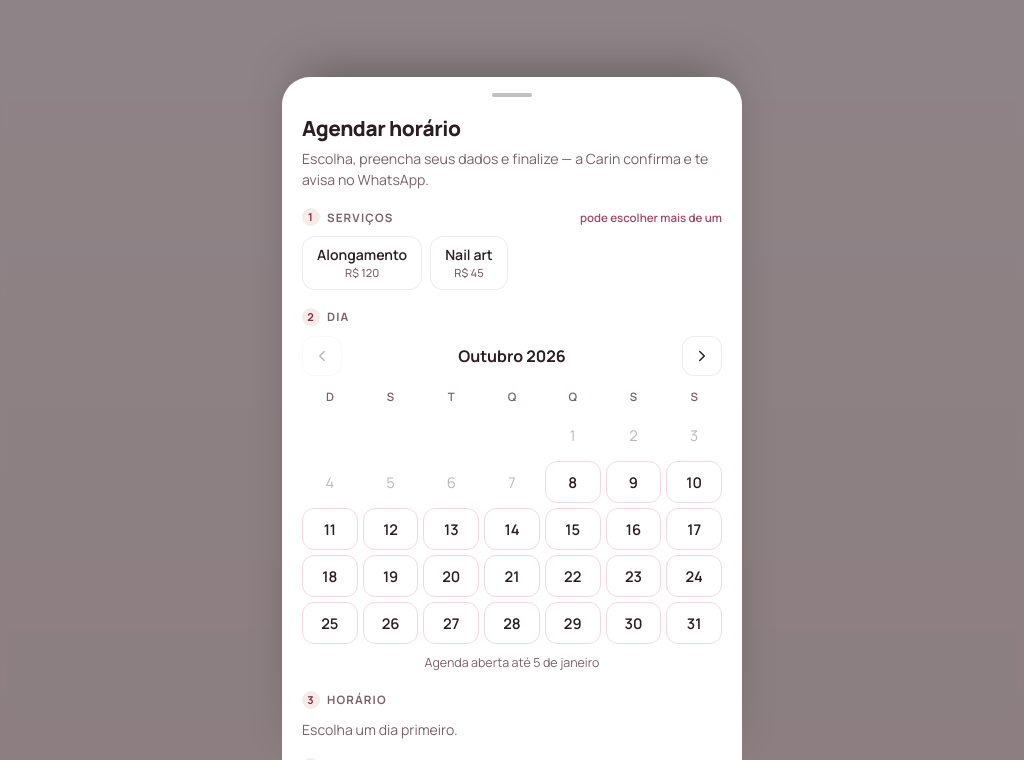
Test case: Sheet do site: até quando a agenda está aberta (escolha da Carin) › trocar de mês desmarca o dia escolhido (o horário era daquele outro mês)
Click the button "9".
click(633, 482)  # box [606,461,661,503]
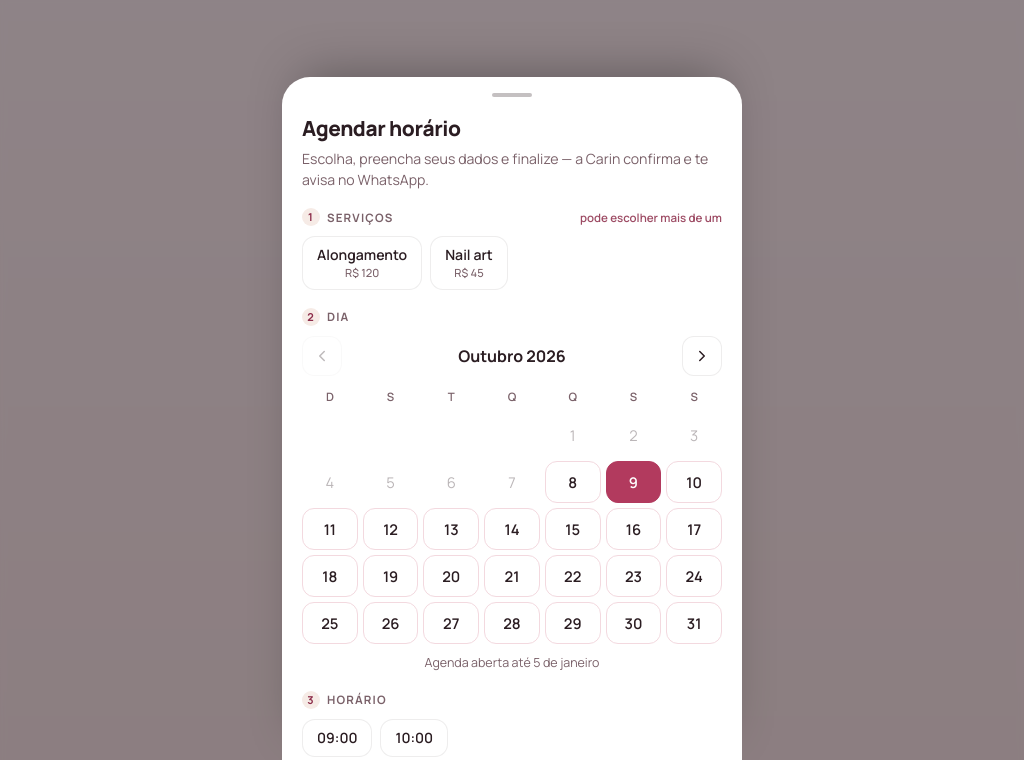
Expected: the button "09:00" is shown, [302,719,372,757]
Click the button named "Próximo mês".
click(702, 356)  # box [682,336,722,376]
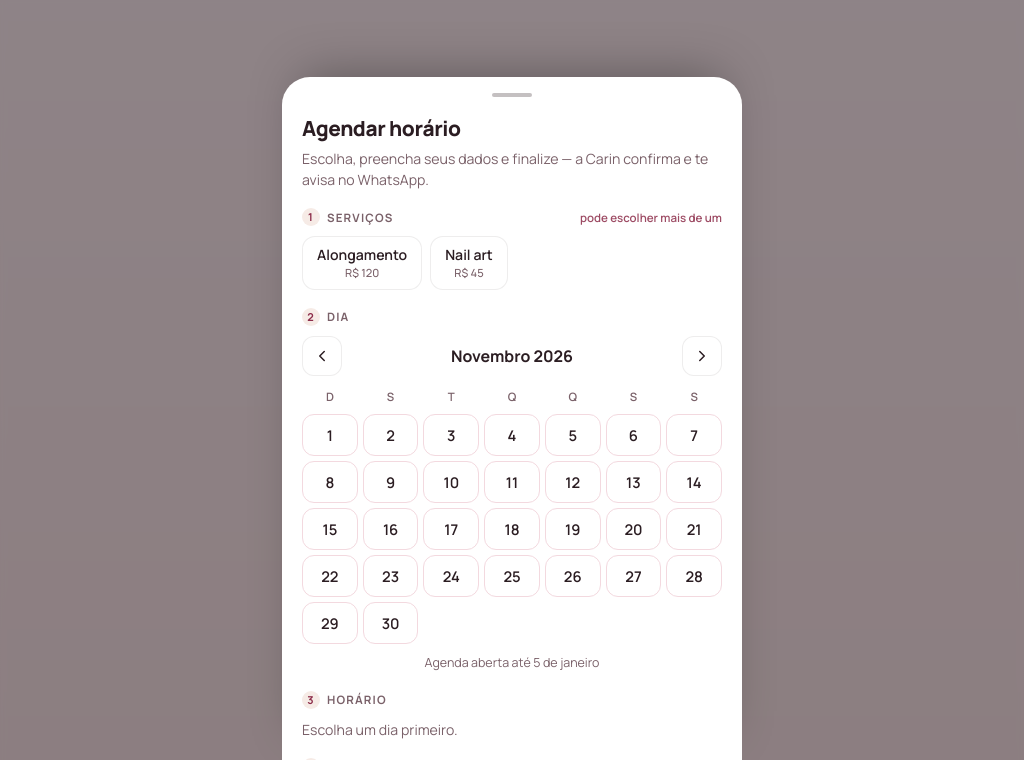
Expected: the text "Escolha um dia primeiro." is shown, [302,720,458,739]
